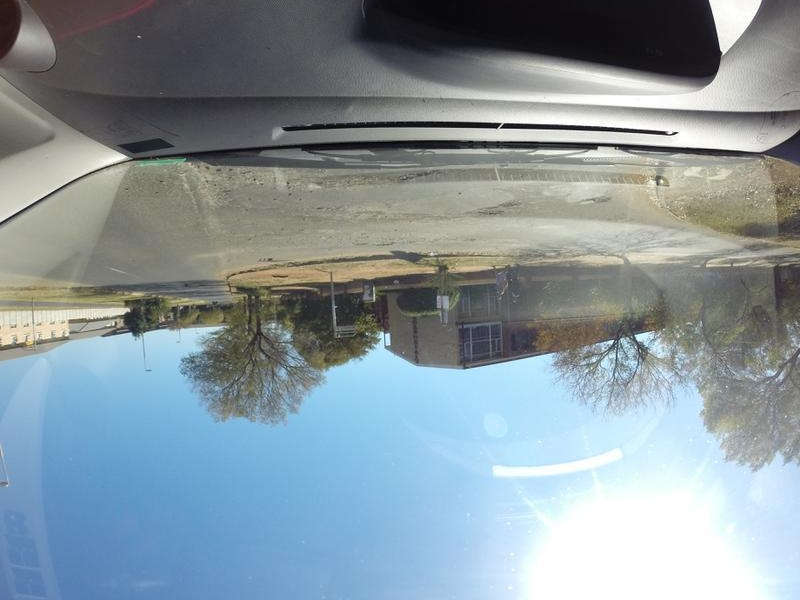pothole: (298, 170, 436, 196), (463, 194, 518, 226), (342, 232, 414, 251), (567, 188, 613, 214), (245, 253, 287, 267)
